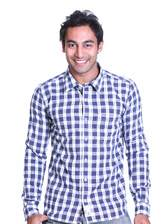clothoes: (19, 67, 153, 223)
